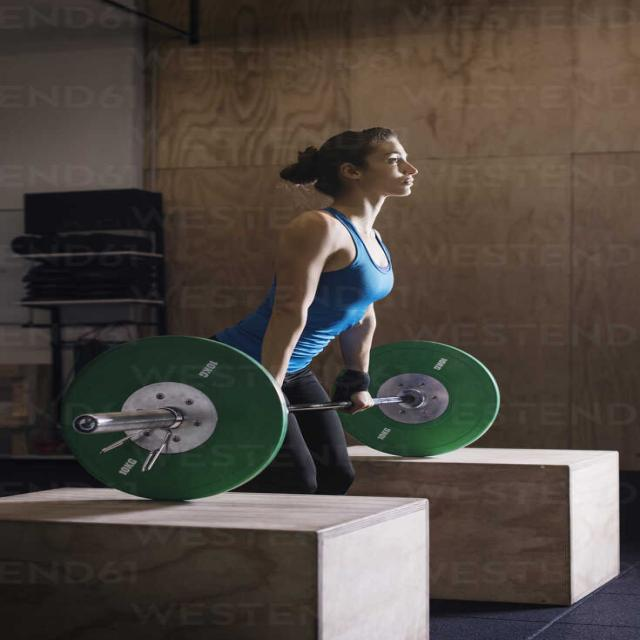barbell_plate_side: (57, 334, 168, 500), (390, 334, 501, 500)
